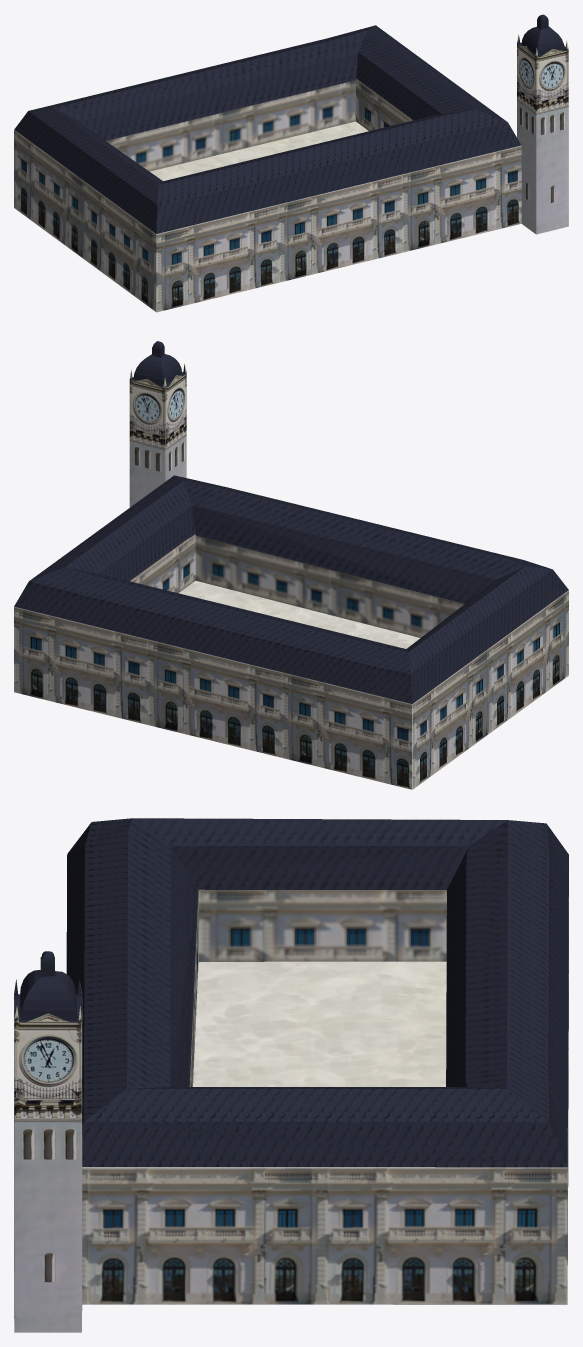
File: PIIE_AR_FBX018_RELOJ.fbx
3 views of the same model, one above another, from view 1: azimuth 30°, elevation 25°; view 2: azimuth 150°, elevation 25°; view 3: azimuth 270°, elevation 25° (orthographic). The views are drawn at different scales.
Visible parts, largest first — view 1: PIIE_AR_MO018_RELOJ; view 2: PIIE_AR_MO018_RELOJ; view 3: PIIE_AR_MO018_RELOJ.
Boxes of the visible parts, x1,y1,x2,y2 form: PIIE_AR_MO018_RELOJ: (14,14,568,312); PIIE_AR_MO018_RELOJ: (14,341,568,789); PIIE_AR_MO018_RELOJ: (14,818,568,1332).
Size of the model in its own units: 3222 by 1716 by 2217.
2 materials, 1 textured.
